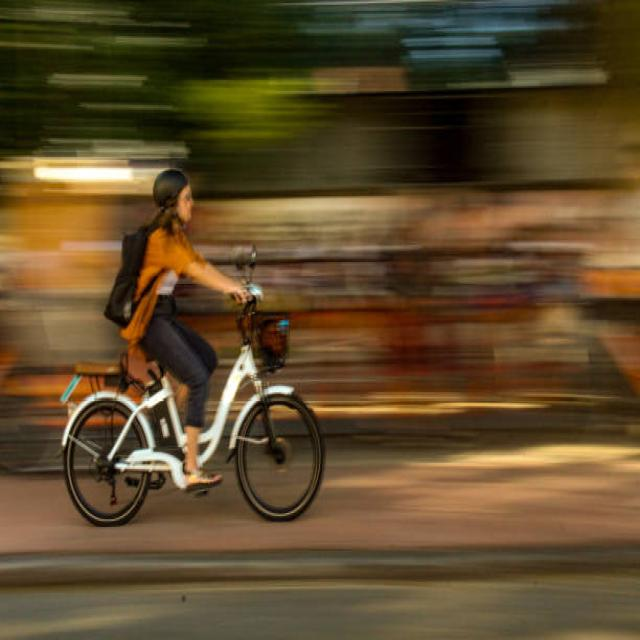bicycle: (62, 171, 325, 526)
